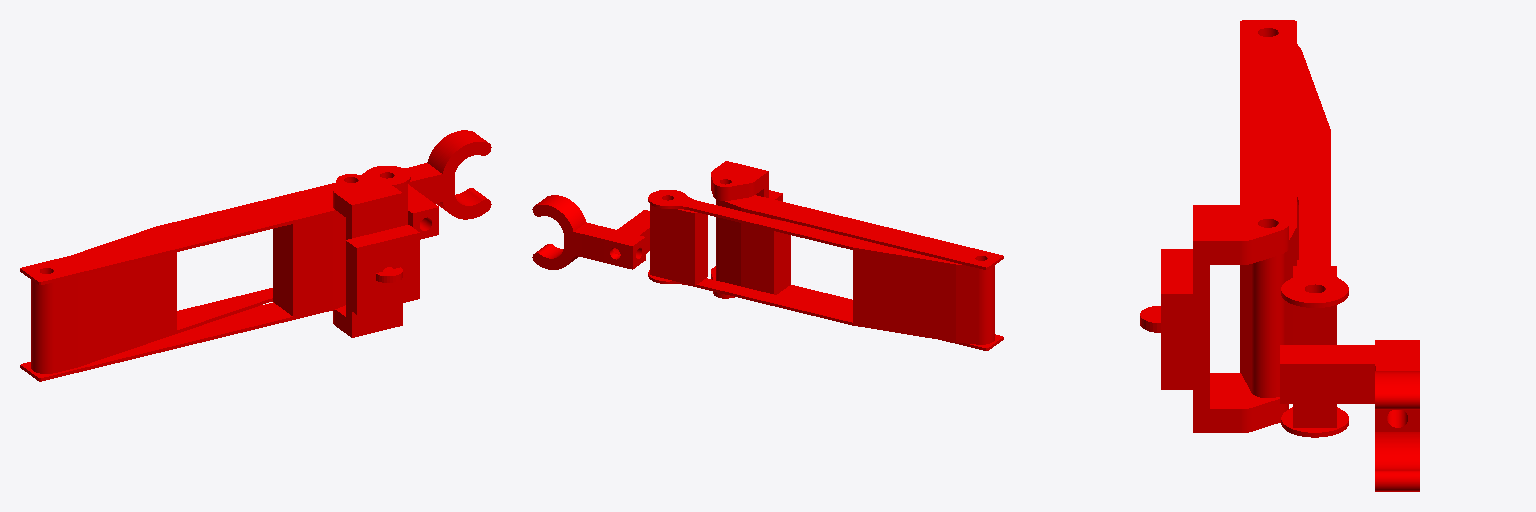
URDF robot description (r5s):
<?xml version="1.0" ?>
<robot name="r5s">
  <material name="red">
    <color rgba="1.0 0.0 0.0 2.0"/>
  </material>

  <link name="world"/>
  <!-- all inertia param below set like Izz = (1/12)*(x^2+y^2), that approximately as box
  -->

  <link name="base_link">
    <visual>
      <origin rpy="0 0 0" xyz="0 0 0"/>
      <geometry>
        <cylinder length="0.01" radius="0.02"/>
      </geometry>
      <material name="red"/>
    </visual>
  </link>
  <link name="body0_link_yaw">
    <visual>
      <geometry>
        <mesh filename="package://nexis_rviz/stl/arm_parts_0.STL" />
      </geometry>
      <origin xyz="0 0 0" rpy="0 0 0"/>
      <material name="red"/>
    </visual>
  </link>
  <link name="body1_link">
    <visual>
      <geometry>
        <mesh filename="package://nexis_rviz/stl/arm_parts_1.STL" />
      </geometry>
      <origin xyz="0 0 0" rpy="0 0 0"/>
      <material name="red"/>
    </visual>
  </link>
  <link name="body2_link">
    <visual>
      <geometry>
        <mesh filename="package://nexis_rviz/stl/arm_parts_2.STL" />
      </geometry>
      <origin xyz="0 0 -0.101" rpy="0 0 0"/>
      <material name="red"/>
    </visual>
  </link>
  <link name="body3_link">
    <visual>
      <geometry>
        <mesh filename="package://nexis_rviz/stl/arm_parts_3.STL" />
      </geometry>
      <origin xyz="0.480 0 -0.101" rpy="0 0 0"/>
      <material name="red"/>
    </visual>
  </link>
  <link name="body4_link">
    <visual>
      <geometry>
        <mesh filename="package://nexis_rviz/stl/arm_parts_4.STL" />
      </geometry>
      <origin xyz="-0.08235 0 -0.1453" rpy="0 0 0"/>
      <material name="red"/>
    </visual>
  </link>
  <link name="body5_link">
    <visual>
      <geometry>
        <mesh filename="package://nexis_rviz/stl/arm_parts_5.STL" />
      </geometry>
      <origin xyz="-0.12435 0 -0.1453" rpy="0 0 0"/>
      <material name="red"/>
    </visual>
  </link>
  <link name="body6_link">
    <visual>
      <geometry>
        <mesh filename="package://nexis_rviz/stl/arm_parts_6.STL" />
      </geometry>
      <origin xyz="-0.12435 0 -0.20339" rpy="0 0 0"/>
      <material name="red"/>
    </visual>
  </link>

  <joint name="fixed" type="fixed">
    <parent link="world"/>
    <child  link="base_link"/>
  </joint>
  <joint name="body0_joint_yaw" type="fixed">
    <parent link="base_link"/>
    <child  link="body0_link_yaw"/>
    <axis xyz="0 0 1"/>
    <origin xyz="0 0 0" rpy="0 0 0"/>
    <limit lower="-3.15" upper="3.15" effort="0" velocity="100"/>
  </joint>
  <joint name="body1_joint" type="revolute">
    <parent link="body0_link_yaw"/>
    <child  link="body1_link"/>
    <axis xyz="0 0 1"/>
    <origin xyz="0 0 0" rpy="0 0 0"/>
    <limit lower="-3.15" upper="3.15" effort="0" velocity="100"/>
  </joint>
  <joint name="body2_joint" type="revolute">
    <parent link="body1_link"/>
    <child  link="body2_link"/>
    <axis xyz="0 1 0"/>
    <origin xyz="0 0 0.101" rpy="0 0 0"/>
    <limit lower="-0" upper="3.15" effort="0" velocity="100"/>
  </joint>
  <joint name="body3_joint" type="revolute">
    <parent link="body2_link"/>
    <child  link="body3_link"/>
    <axis xyz="0 1 0"/>
    <origin xyz="-0.480 0 0" rpy="0 0 0"/>
    <limit lower="-3.15" upper="0" effort="0" velocity="100"/>
  </joint>
  <joint name="body4_joint" type="revolute">
    <parent link="body3_link"/>
    <child  link="body4_link"/>
    <axis xyz="0 1 0"/>
    <origin xyz="0.56235 0 0.0443" rpy="0 0 0"/>
    <limit lower="-3.15" upper="3.15" effort="0" velocity="100"/>
  </joint>
  <joint name="body5_joint" type="revolute">
    <parent link="body4_link"/>
    <child  link="body5_link"/>
    <axis xyz="0 0 1"/>
    <origin xyz="0.042 0 0" rpy="0 0 0"/>
    <limit lower="-3.15" upper="3.15" effort="0" velocity="100"/>
  </joint>
  <joint name="body6_joint" type="revolute">
    <parent link="body5_link"/>
    <child  link="body6_link"/>
    <axis xyz="1 0 0"/>
    <origin xyz="0 0 0.05809" rpy="0 0 0"/>
    <limit lower="-3.14159265" upper="3.14159265" effort="0" velocity="100"/>
  </joint>

</robot>

--- What the picture shows (computed from the rendered views, not written in the file) ---
3 views of the same robot in one strip: view 1: azimuth 30°, elevation 25°; view 2: azimuth 150°, elevation 25°; view 3: azimuth 270°, elevation 25° (orthographic).
Model r5s with 9 links and 8 joints (6 revolute, 2 fixed), rooted at world, posed every joint at zero.
Visible links, largest first — view 1: body2_link, body3_link, body0_link_yaw, body1_link, body6_link, body4_link, body5_link; view 2: body3_link, body2_link, body4_link, body6_link, body5_link, body1_link; view 3: body2_link, body1_link, body3_link, body4_link, body6_link, body0_link_yaw, body5_link.
Link boxes in pixels (x1,y1,x2,y2): body2_link: (20,194,345,381); body3_link: (31,166,410,373); body0_link_yaw: (346,225,419,314); body1_link: (333,174,402,337); body6_link: (417,130,491,219); body4_link: (382,176,438,239); body5_link: (404,166,431,200); body3_link: (648,190,994,344); body2_link: (716,195,1003,350); body4_link: (617,198,707,285); body6_link: (532,195,594,269); body5_link: (582,225,645,269); body1_link: (711,161,768,298); body2_link: (1240,20,1296,397); body1_link: (1193,205,1288,432); body3_link: (1260,33,1348,437); body4_link: (1280,266,1374,427); body6_link: (1375,371,1419,491); body0_link_yaw: (1161,249,1192,389); body5_link: (1375,340,1419,411).
Bounding box of the posed robot: 0.7866 × 0.2643 × 0.2 m (x, y, z).
7 mesh visuals loaded from 7 distinct referenced files (7 binary STL).